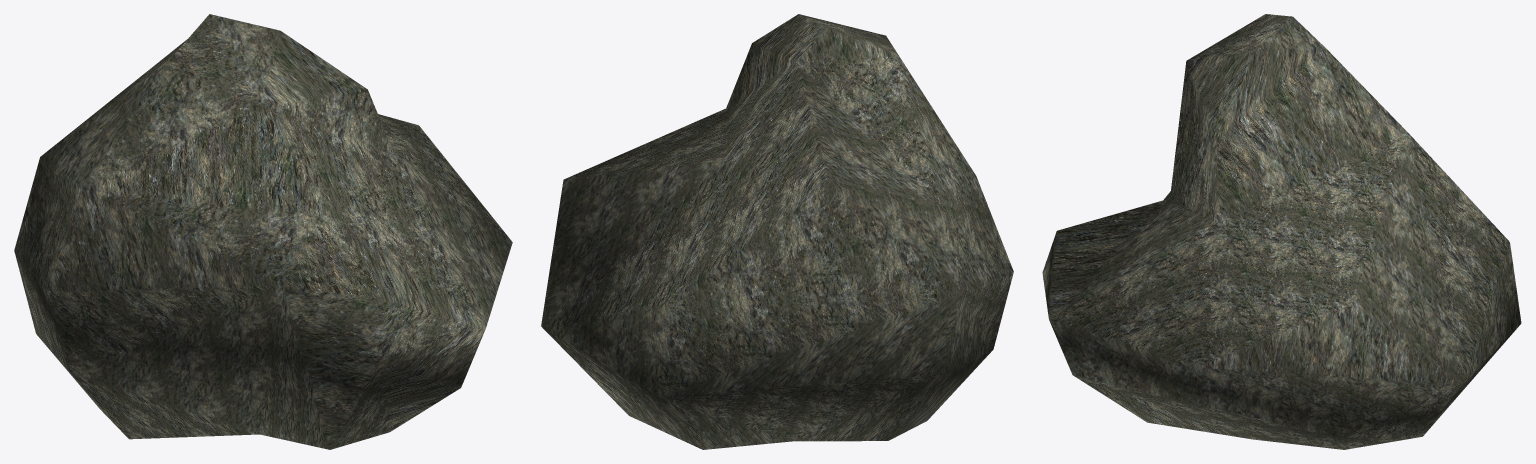
The model's file is mtns_rock_grey_a6_l2.fbx.
3 views of the same model, side by side, from view 1: azimuth 30°, elevation 25°; view 2: azimuth 150°, elevation 25°; view 3: azimuth 270°, elevation 25° (orthographic). The views are drawn at different scales.
Visible parts, largest first — view 1: mesh_node; view 2: mesh_node; view 3: mesh_node.
Part boxes in pixels (x1,y1,x2,y2): mesh_node: (14, 14, 512, 449); mesh_node: (541, 14, 1013, 449); mesh_node: (1042, 14, 1521, 449).
Bounding box in the file's own units: 5.54 × 4.84 × 5.73.
1 material, 1 textured.
